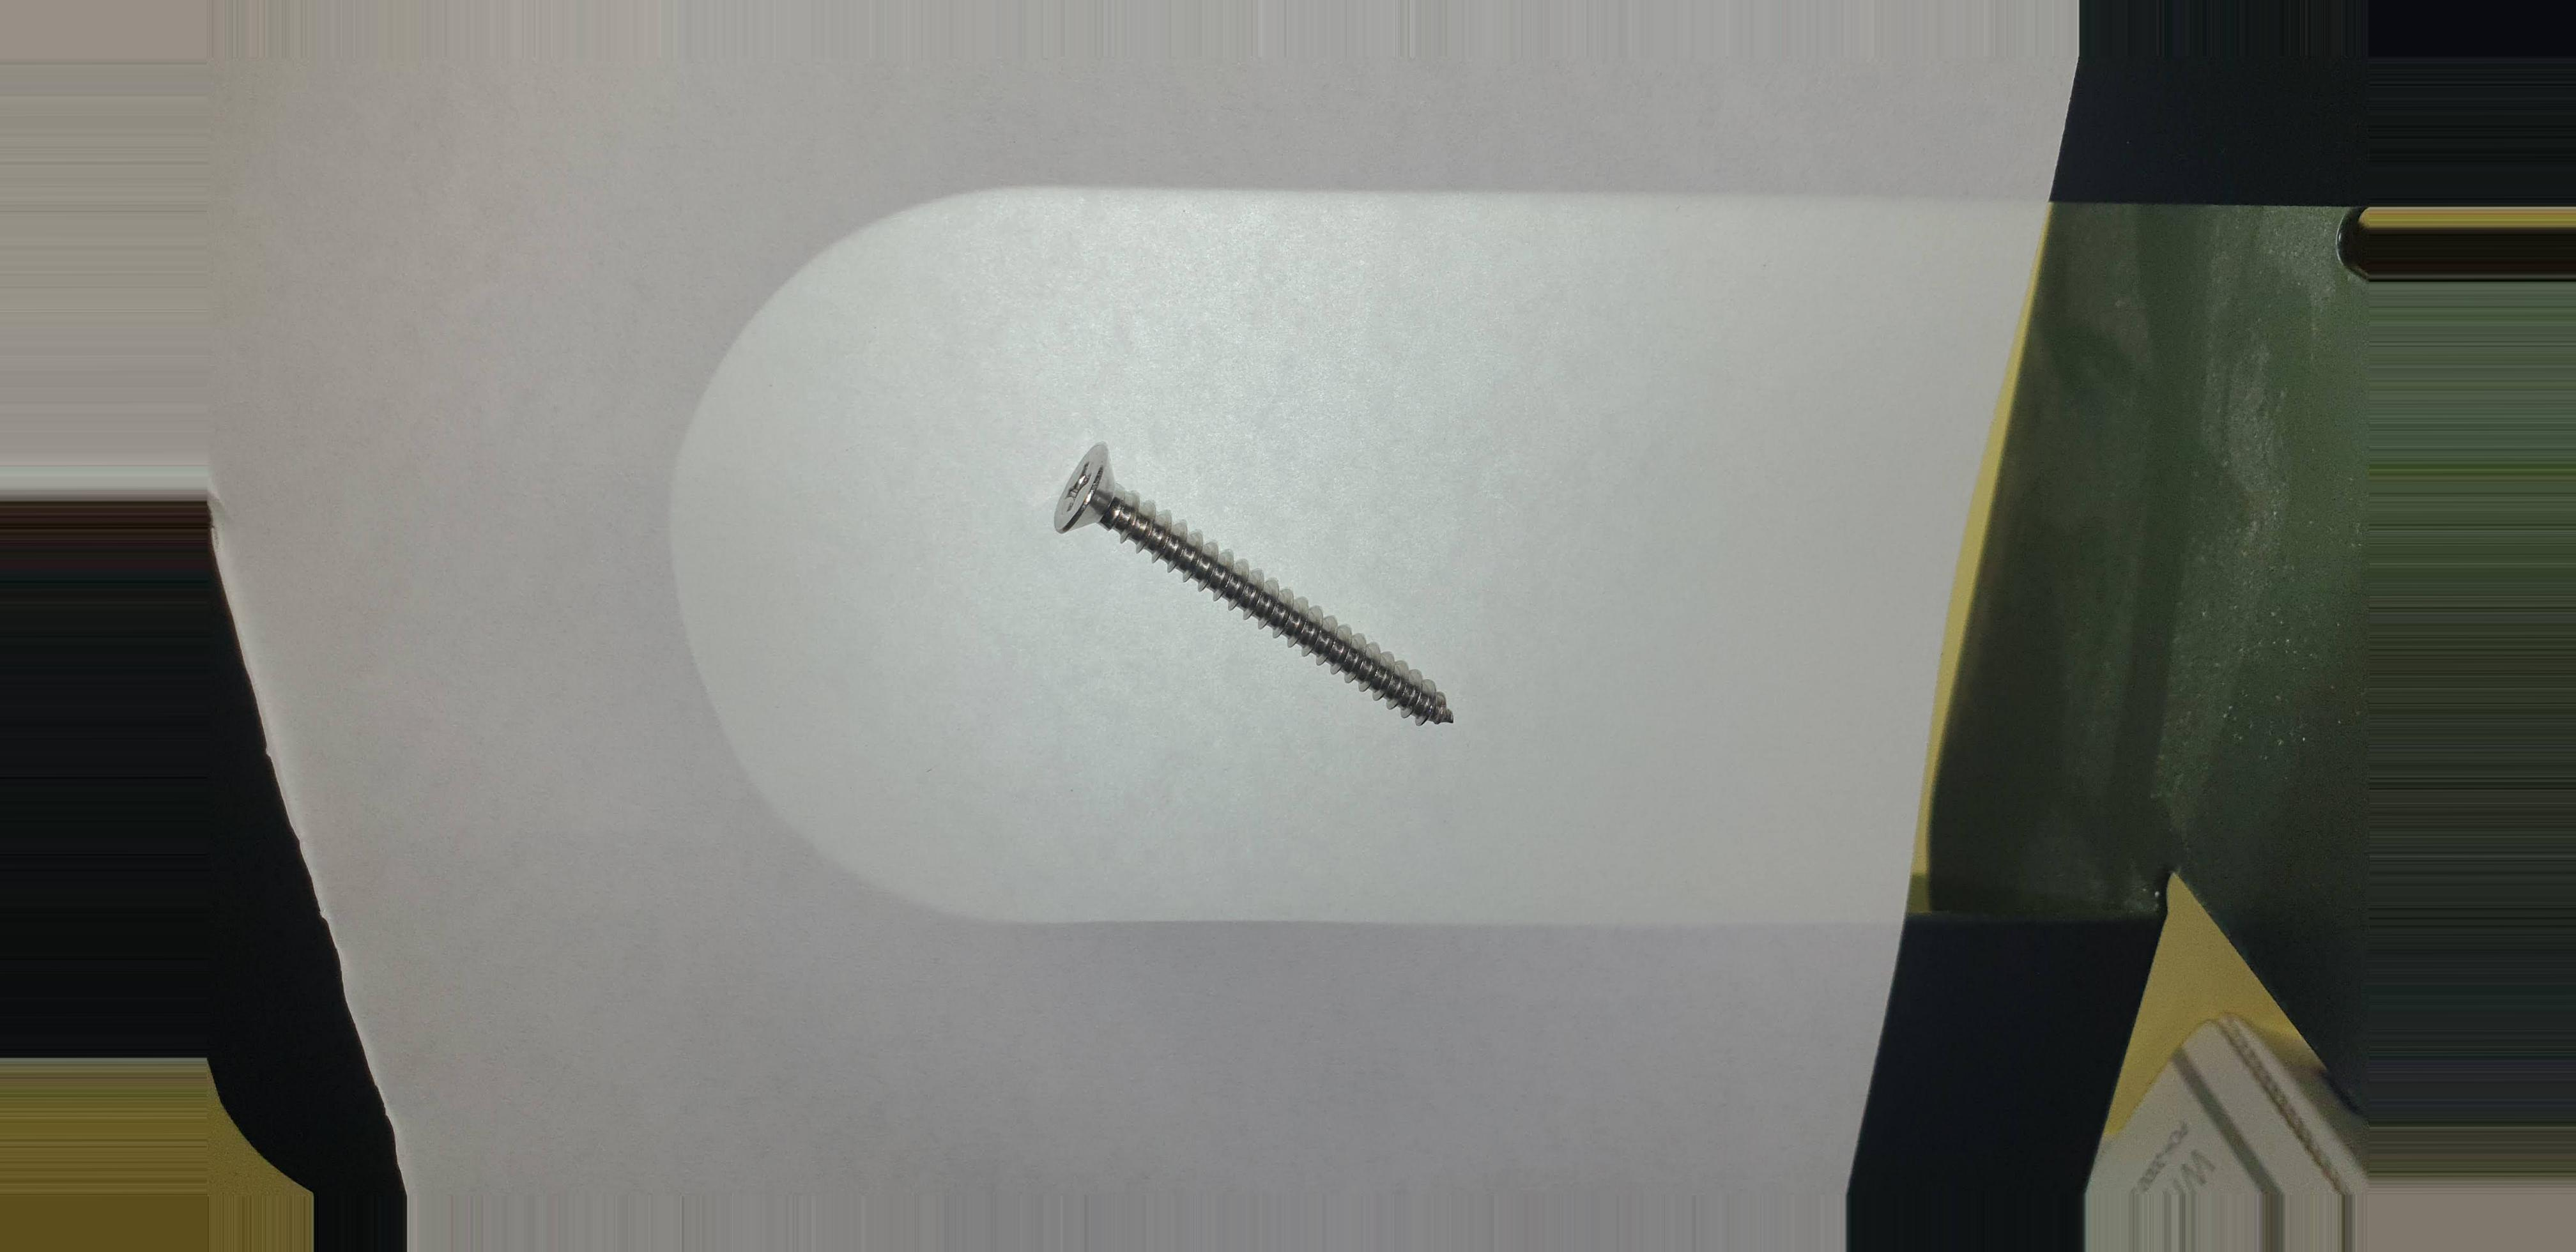fastener: (1004, 398, 1515, 769)
